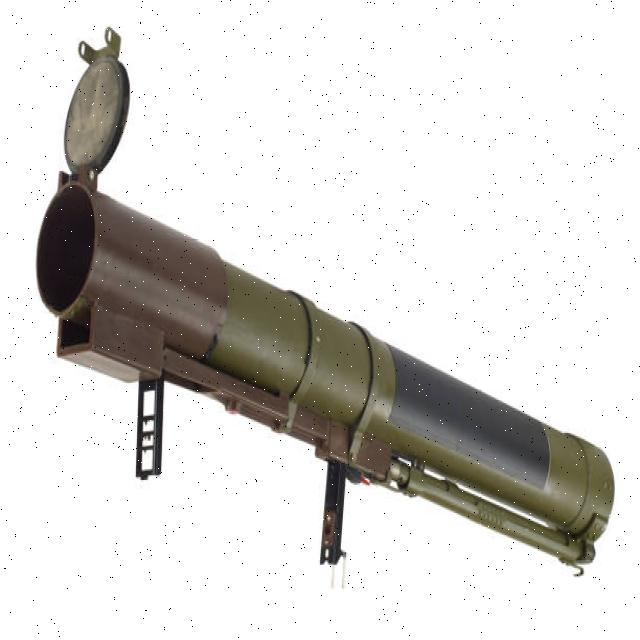bazooka: (22, 15, 623, 609)
